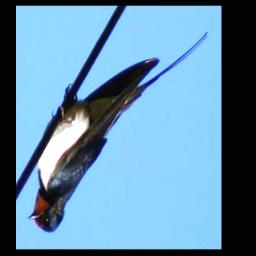Swallow: (27, 30, 211, 234)
